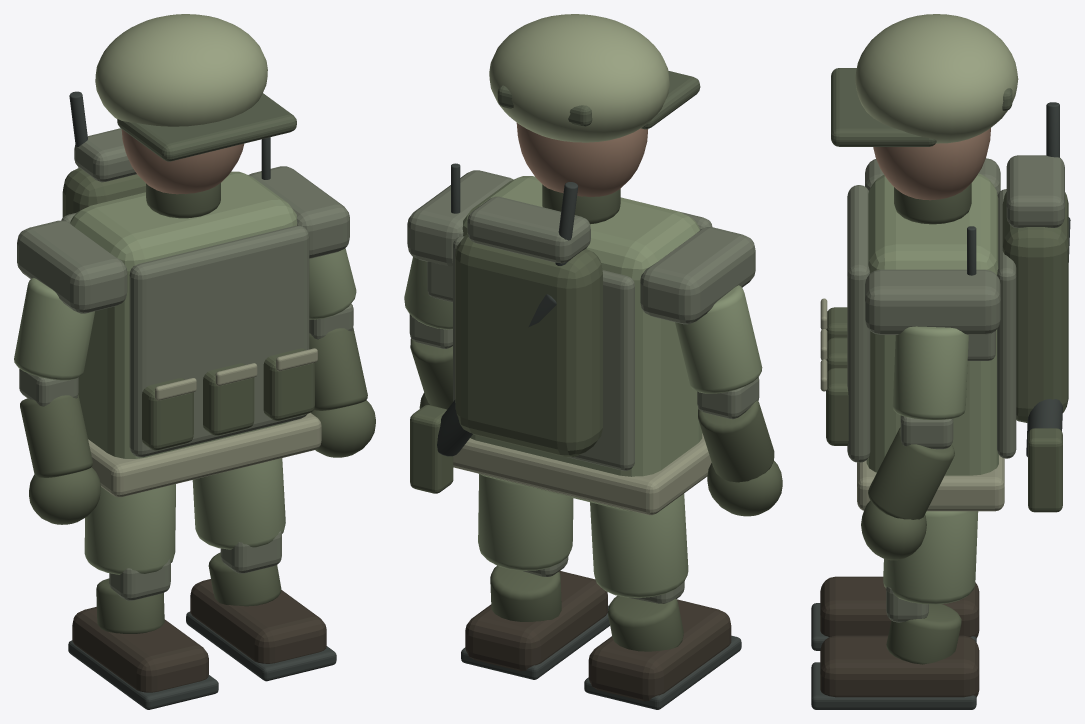
The model's file is mindglow-companion.glb.
The picture shows the model from 3 angles, left to right: view 1: azimuth 30°, elevation 25°; view 2: azimuth 150°, elevation 25°; view 3: azimuth 270°, elevation 25°; orthographic projection. The views are drawn at different scales.
Visible parts, largest first — view 1: Armor_Front_Plate, Uniform_Torso, Helmet_Shell, Waist_Belt, Shoulder_Armor_L, Thigh_L, Thigh_R, Boot_L, Boot_R, Upper_Arm_L, Helmet_Brim, Forearm_L (+24 smaller); view 2: Backpack, Helmet_Shell, Uniform_Torso, Waist_Belt, Thigh_L, Shoulder_Armor_L, Thigh_R, Armor_Back_Plate, Boot_L, Boot_R, Upper_Arm_L, Head (+19 smaller); view 3: Helmet_Shell, Uniform_Torso, Backpack, Shoulder_Armor_R, Boot_R, Upper_Arm_R, Thigh_R, Armor_Front_Plate, Head, Boot_L, Forearm_R, Armor_Back_Plate (+19 smaller).
Part boxes in pixels (x1=…): Armor_Front_Plate: x1=129, y1=225, x2=309, y2=457; Uniform_Torso: x1=70, y1=171, x2=297, y2=458; Helmet_Shell: x1=95, y1=14, x2=267, y2=126; Waist_Belt: x1=88, y1=412, x2=321, y2=497; Shoulder_Armor_L: x1=17, y1=220, x2=127, y2=313; Thigh_L: x1=84, y1=484, x2=175, y2=574; Thigh_R: x1=192, y1=458, x2=285, y2=549; Boot_L: x1=72, y1=607, x2=208, y2=692; Boot_R: x1=190, y1=579, x2=326, y2=663; Upper_Arm_L: x1=14, y1=278, x2=94, y2=380; Helmet_Brim: x1=117, y1=93, x2=296, y2=161; Forearm_L: x1=20, y1=395, x2=92, y2=477; Backpack: x1=455, y1=234, x2=602, y2=456; Helmet_Shell: x1=489, y1=14, x2=669, y2=142; Uniform_Torso: x1=462, y1=176, x2=702, y2=511; Waist_Belt: x1=453, y1=433, x2=711, y2=515; Thigh_L: x1=590, y1=493, x2=688, y2=597; Shoulder_Armor_L: x1=640, y1=227, x2=755, y2=324; Thigh_R: x1=478, y1=474, x2=573, y2=570; Armor_Back_Plate: x1=453, y1=236, x2=634, y2=470; Boot_L: x1=588, y1=599, x2=731, y2=701; Boot_R: x1=465, y1=571, x2=607, y2=671; Upper_Arm_L: x1=675, y1=285, x2=762, y2=393; Head: x1=516, y1=123, x2=648, y2=197; Helmet_Shell: x1=855, y1=14, x2=1018, y2=143; Uniform_Torso: x1=866, y1=173, x2=998, y2=475; Backpack: x1=1002, y1=192, x2=1068, y2=422; Shoulder_Armor_R: x1=865, y1=269, x2=1000, y2=334; Boot_R: x1=820, y1=635, x2=979, y2=697; Upper_Arm_R: x1=892, y1=326, x2=968, y2=419; Thigh_R: x1=883, y1=511, x2=978, y2=604; Armor_Front_Plate: x1=847, y1=185, x2=870, y2=462; Head: x1=873, y1=128, x2=990, y2=200; Boot_L: x1=820, y1=576, x2=979, y2=637; Forearm_R: x1=868, y1=427, x2=954, y2=519; Armor_Back_Plate: x1=997, y1=189, x2=1016, y2=458.
Size of the model in its own units: 2.08 by 3.62 by 1.33.
